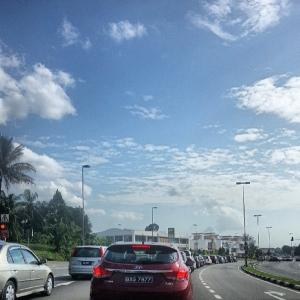Vehicle-registration-plate: (126, 276, 152, 283), (82, 261, 92, 266)
